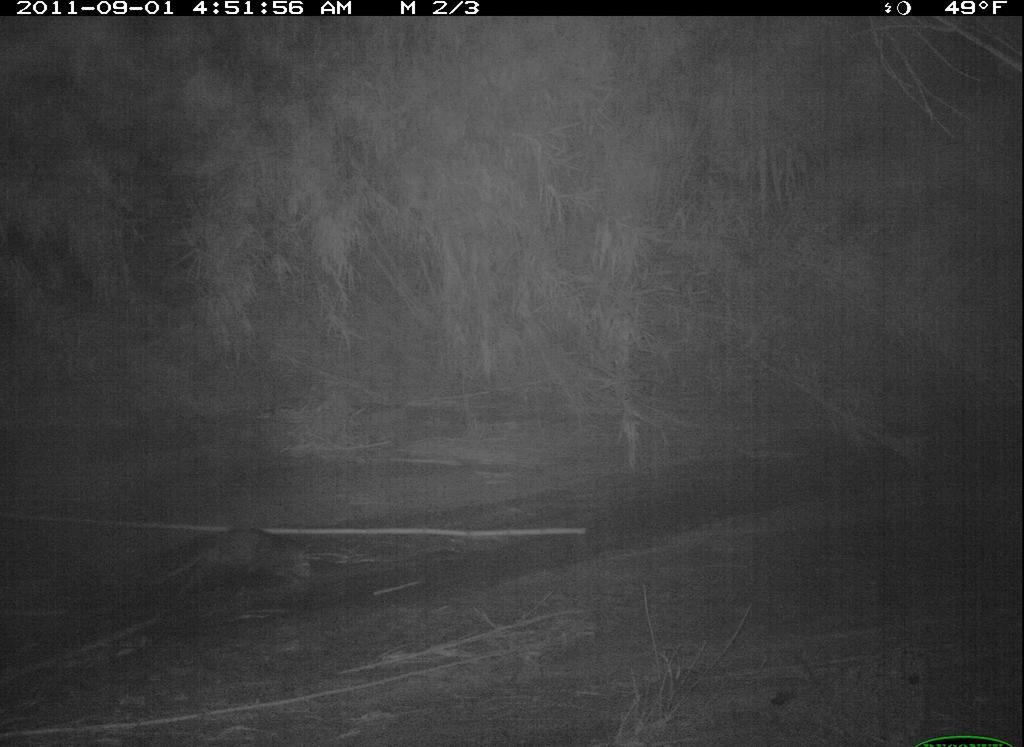opossum: (149, 516, 328, 608)
